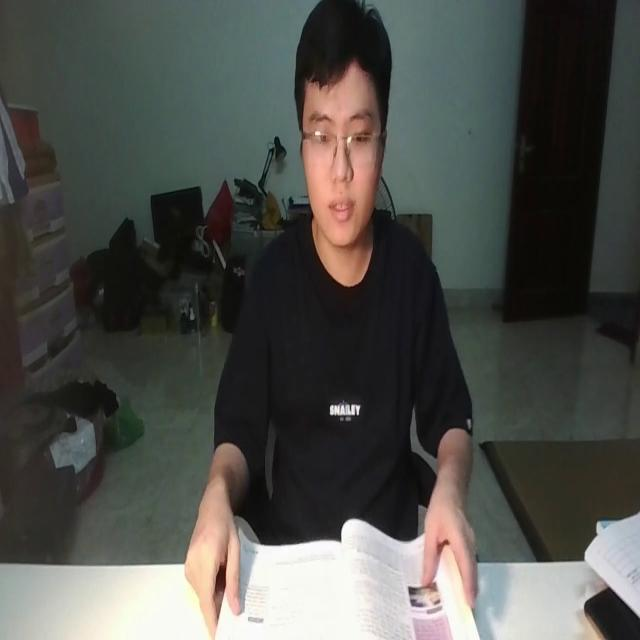book: (214, 513, 482, 640)
student: (183, 3, 480, 632)
